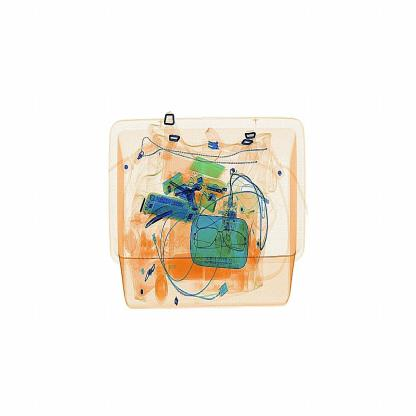pliers: (135, 198, 189, 236)
